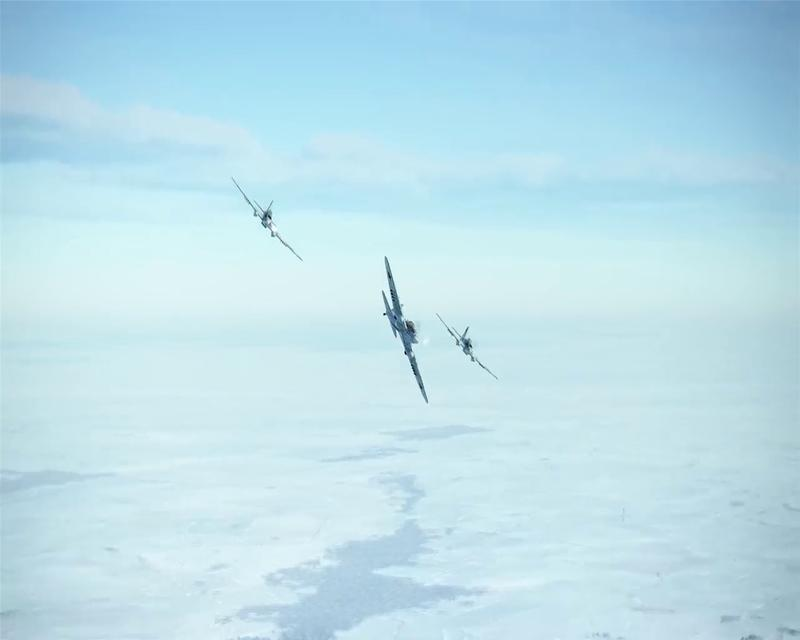UAV: (371, 256, 434, 404), (229, 174, 303, 261), (438, 314, 498, 384)
